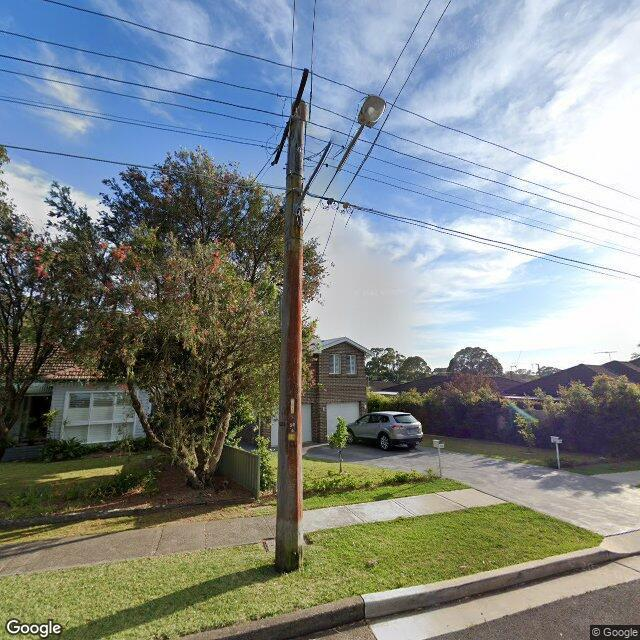crossarm: (272, 67, 310, 166)
streetlight: (293, 95, 387, 216)
timber-pole: (274, 99, 310, 572)
